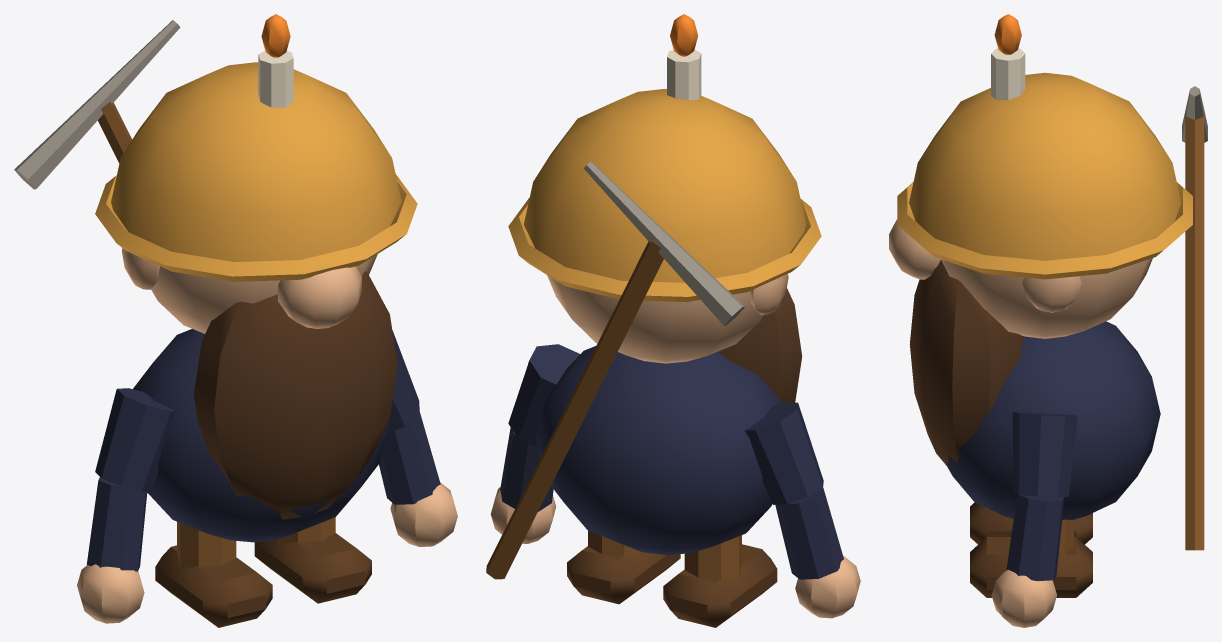
File: CH_Cust_12_CuceMadenci.fbx
The picture shows the model from 3 angles, left to right: view 1: azimuth 30°, elevation 25°; view 2: azimuth 150°, elevation 25°; view 3: azimuth 270°, elevation 25°; orthographic projection. The views are drawn at different scales.
Parts seen in each view (by area): view 1: CH_Cust_12_CuceMadenci; view 2: CH_Cust_12_CuceMadenci; view 3: CH_Cust_12_CuceMadenci.
Part boxes in pixels (x1,y1,x2,y2): CH_Cust_12_CuceMadenci: [14, 14, 457, 627]; CH_Cust_12_CuceMadenci: [486, 14, 860, 627]; CH_Cust_12_CuceMadenci: [889, 14, 1207, 627].
Bounding box in the file's own units: 0.5927 × 0.8915 × 0.4664.
1 material, 1 textured.
